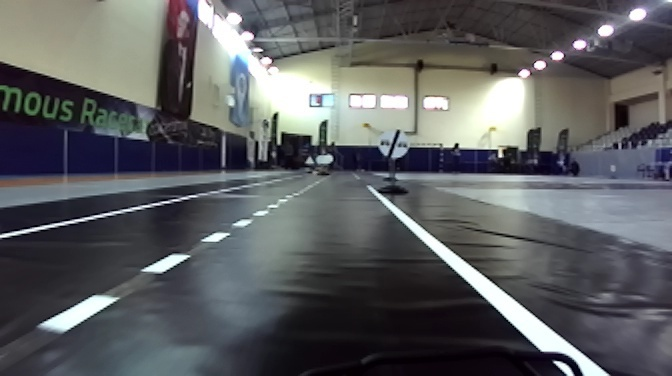sollama_serbest: (375, 127, 411, 160)
